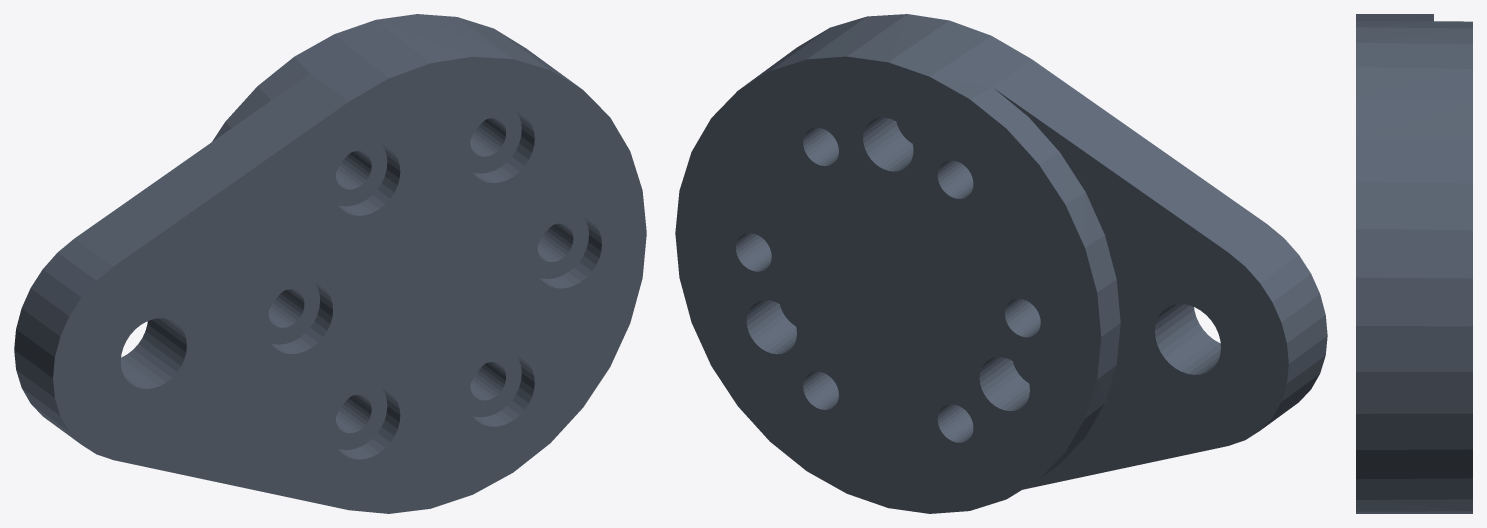
Rendered from knee_crank_L.dae.
3 renders of one model, left to right at view 1: azimuth 30°, elevation 25°; view 2: azimuth 150°, elevation 25°; view 3: azimuth 270°, elevation 25°, orthographic.
Parts seen in each view (by area): view 1: knee_crank_L-printed; view 2: knee_crank_L-printed; view 3: knee_crank_L-printed.
Part boxes in pixels (left/top/right/bottom): knee_crank_L-printed: left=14, top=14, right=646, bottom=513; knee_crank_L-printed: left=675, top=14, right=1327, bottom=513; knee_crank_L-printed: left=1356, top=14, right=1472, bottom=513.
Bounding box in the file's own units: 0.053 × 0.009 × 0.038.
